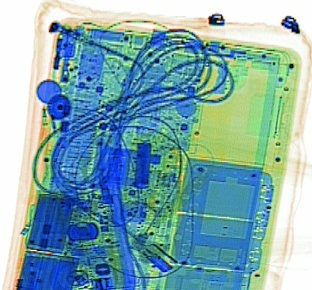powerbank: (25, 191, 74, 253), (13, 247, 81, 288)
